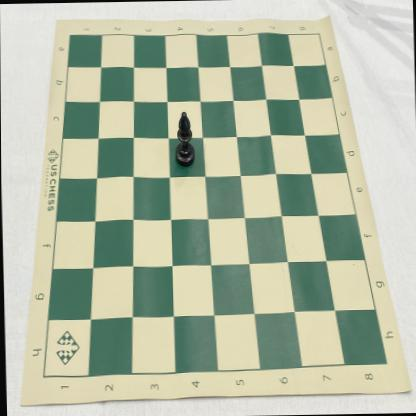black-bishop: (174, 111, 195, 167)
